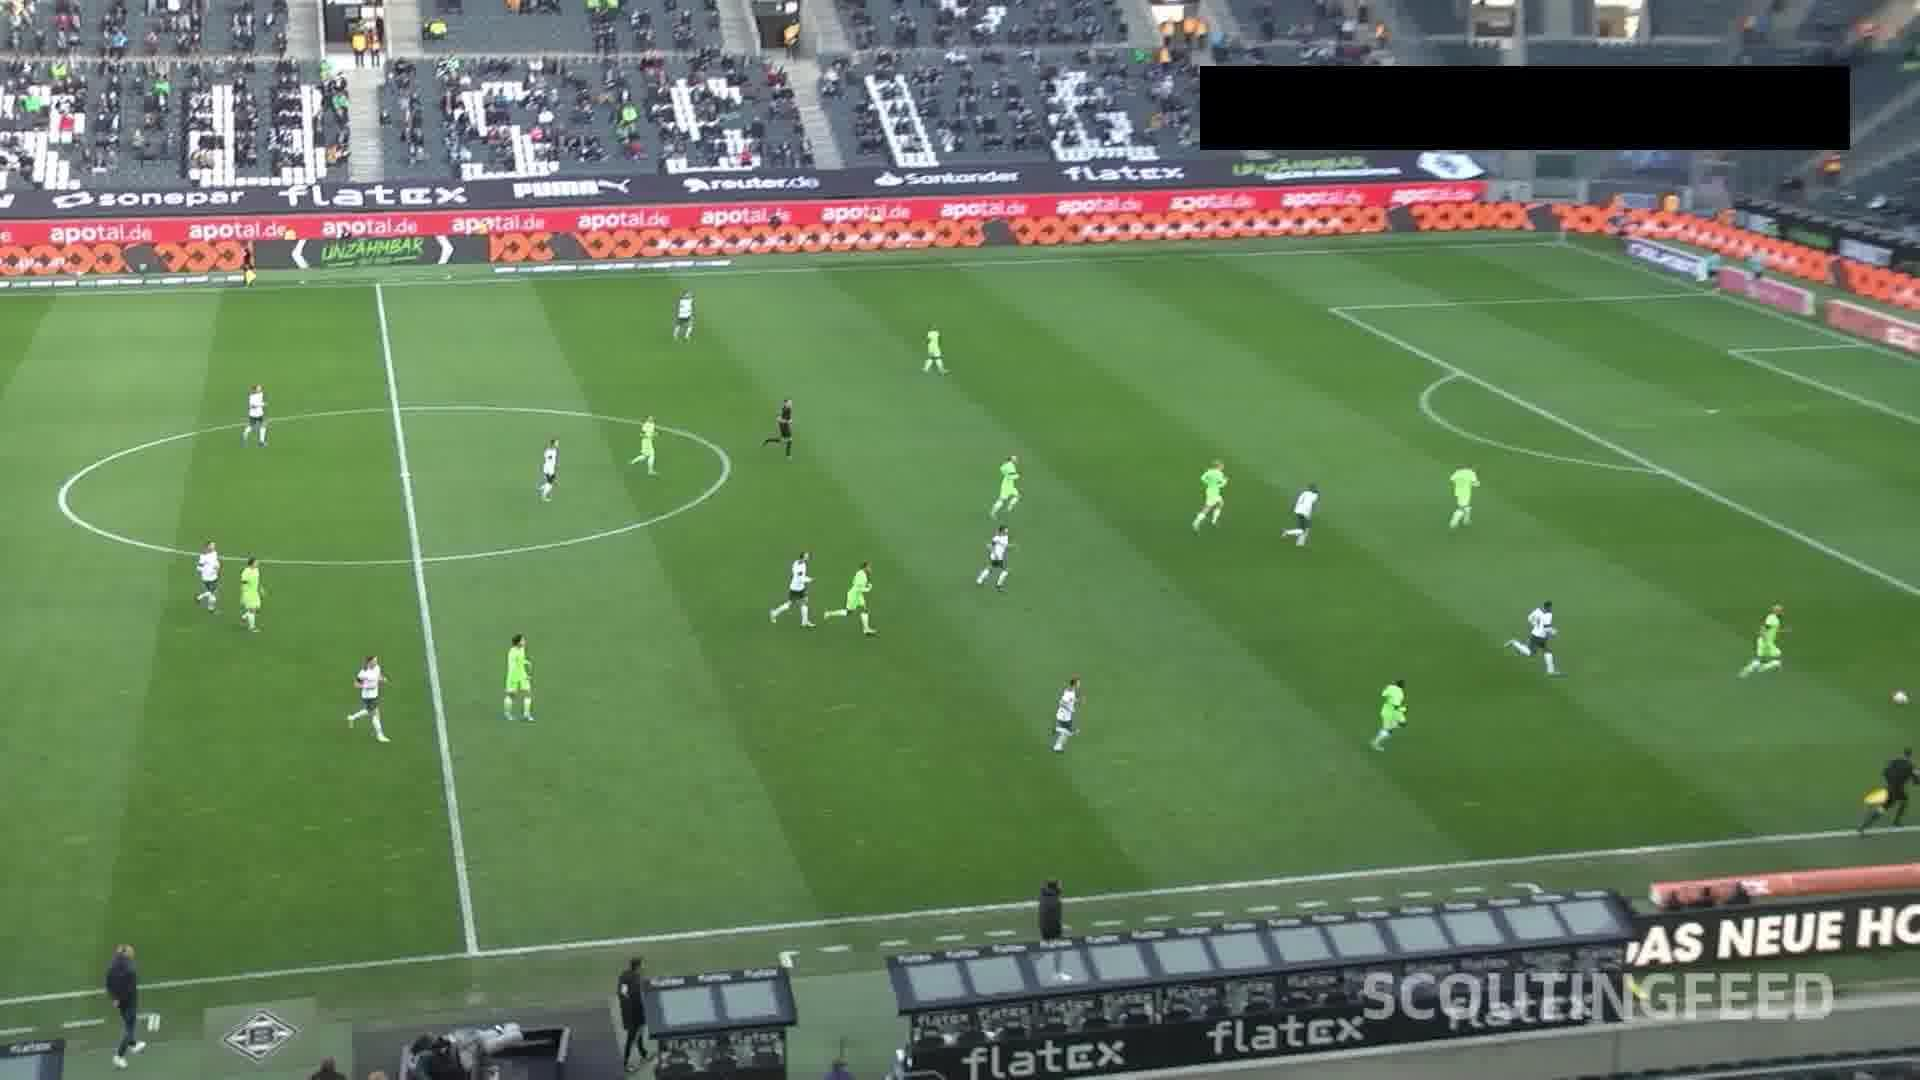football: (1891, 690, 1912, 709)
